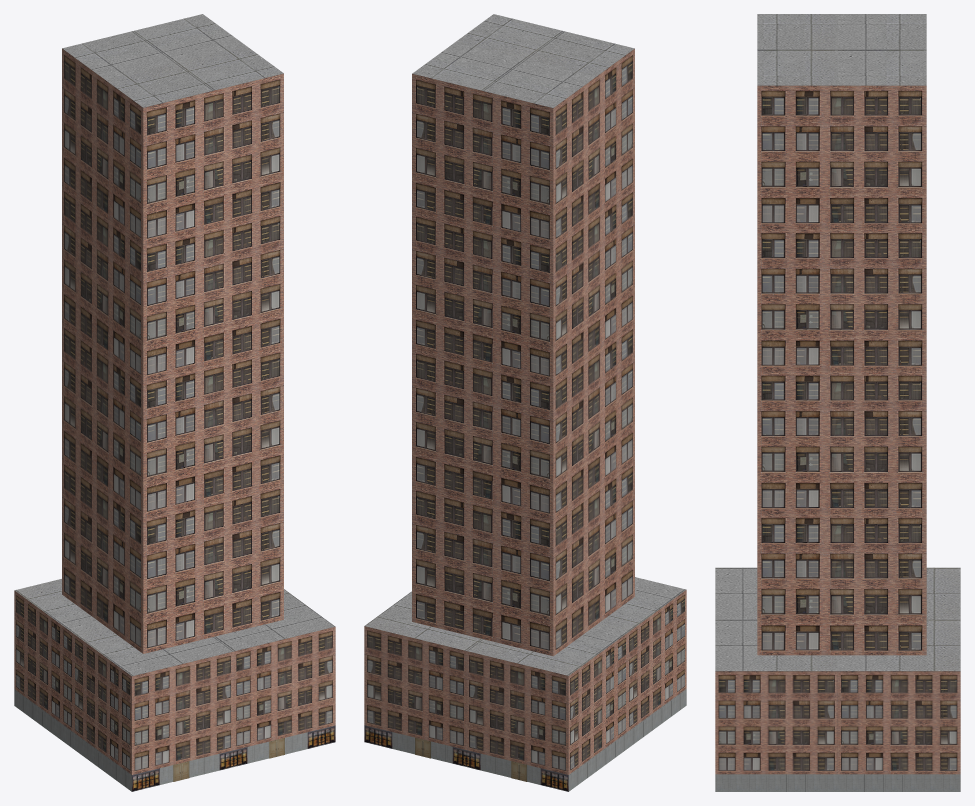
File: Building01.fbx
The picture shows the model from 3 angles, left to right: view 1: azimuth 30°, elevation 25°; view 2: azimuth 150°, elevation 25°; view 3: azimuth 270°, elevation 25°; orthographic projection. The views are drawn at different scales.
Parts seen in each view (by area): view 1: Building01; view 2: Building01; view 3: Building01.
Part boxes in pixels (bbox=[...]): Building01: bbox=[14, 14, 335, 791]; Building01: bbox=[364, 14, 686, 791]; Building01: bbox=[715, 14, 960, 791].
Bounding box in the file's own units: 31.47 × 97.79 × 31.47.
